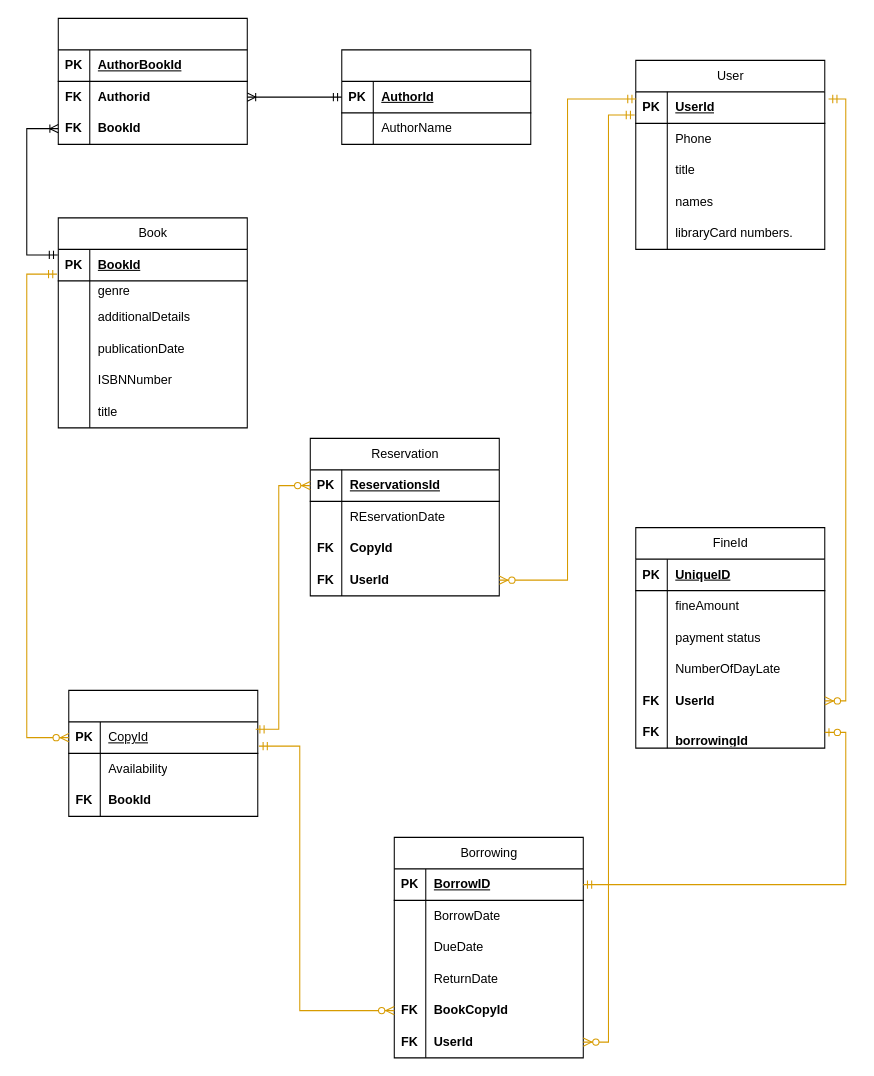
Image size: 874x1076. Some labels were removed from this diagram. The box of each missing label's shape, as (x1, y1, x2, y2) in pixels:
Authors: (341, 49, 531, 144)
AuthorsBook: (57, 17, 247, 144)
BookCopy: (68, 689, 258, 816)
